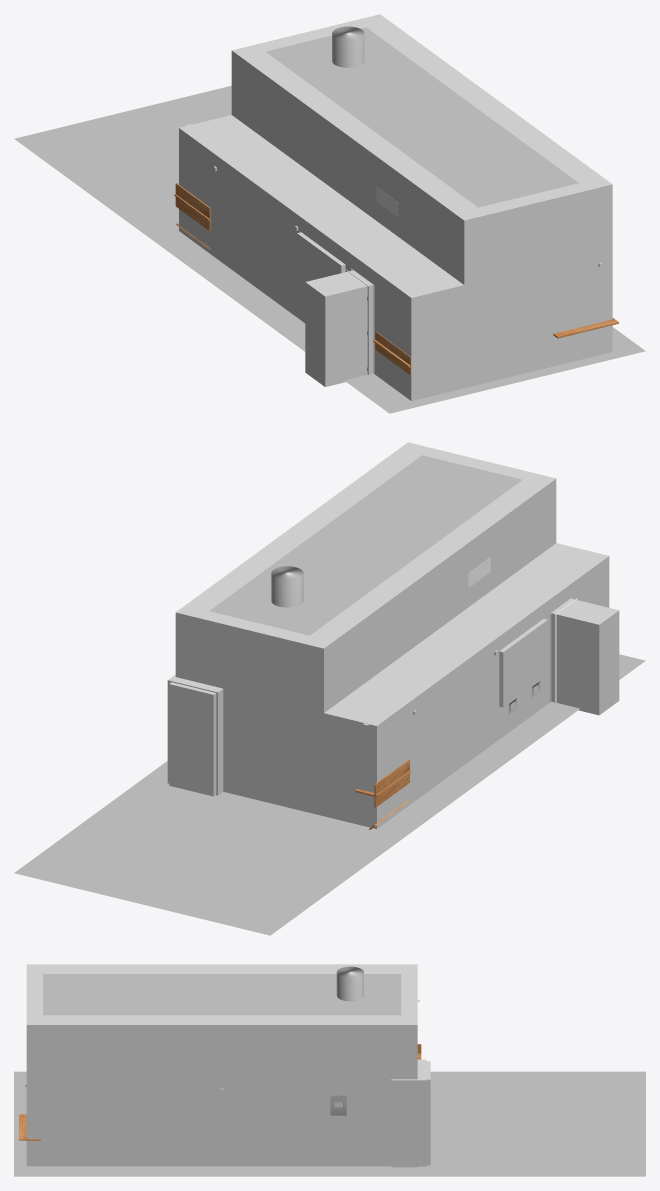
File: arena model.fbx
3 renders of one model, top to bottom at view 1: azimuth 30°, elevation 25°; view 2: azimuth 150°, elevation 25°; view 3: azimuth 270°, elevation 25°, orthographic. The views are drawn at different scales.
Visible parts, largest first — view 1: walls, floor, Cylinder.001, Cube.016, Cube.019; view 2: walls, floor, Cube.017, Cylinder.001, Cube.016; view 3: walls, floor, Cylinder.001, Cube.017, sign.001.
Part boxes in pixels (<box>): walls: <box>179,14,612,400</box>; floor: <box>14,85,645,413</box>; Cylinder.001: <box>332,26,364,67</box>; Cube.016: <box>175,183,210,230</box>; Cube.019: <box>375,331,411,375</box>; walls: <box>167,442,619,829</box>; floor: <box>14,654,645,935</box>; Cube.017: <box>169,682,216,796</box>; Cylinder.001: <box>271,566,303,607</box>; Cube.016: <box>374,759,409,807</box>; walls: <box>26,964,426,1167</box>; floor: <box>14,1071,645,1176</box>; Cylinder.001: <box>336,966,363,1001</box>; Cube.017: <box>426,1061,430,1165</box>; sign.001: <box>330,1095,346,1115</box>.
Bounding box in the file's own units: 683 × 500 × 1616.
